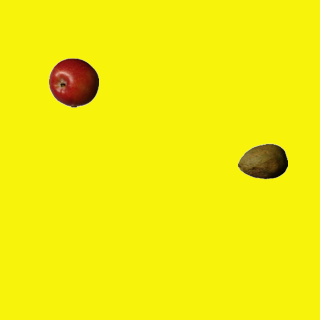Apple Braeburn: (48, 57, 98, 107)
Papaya: (237, 136, 287, 186)
